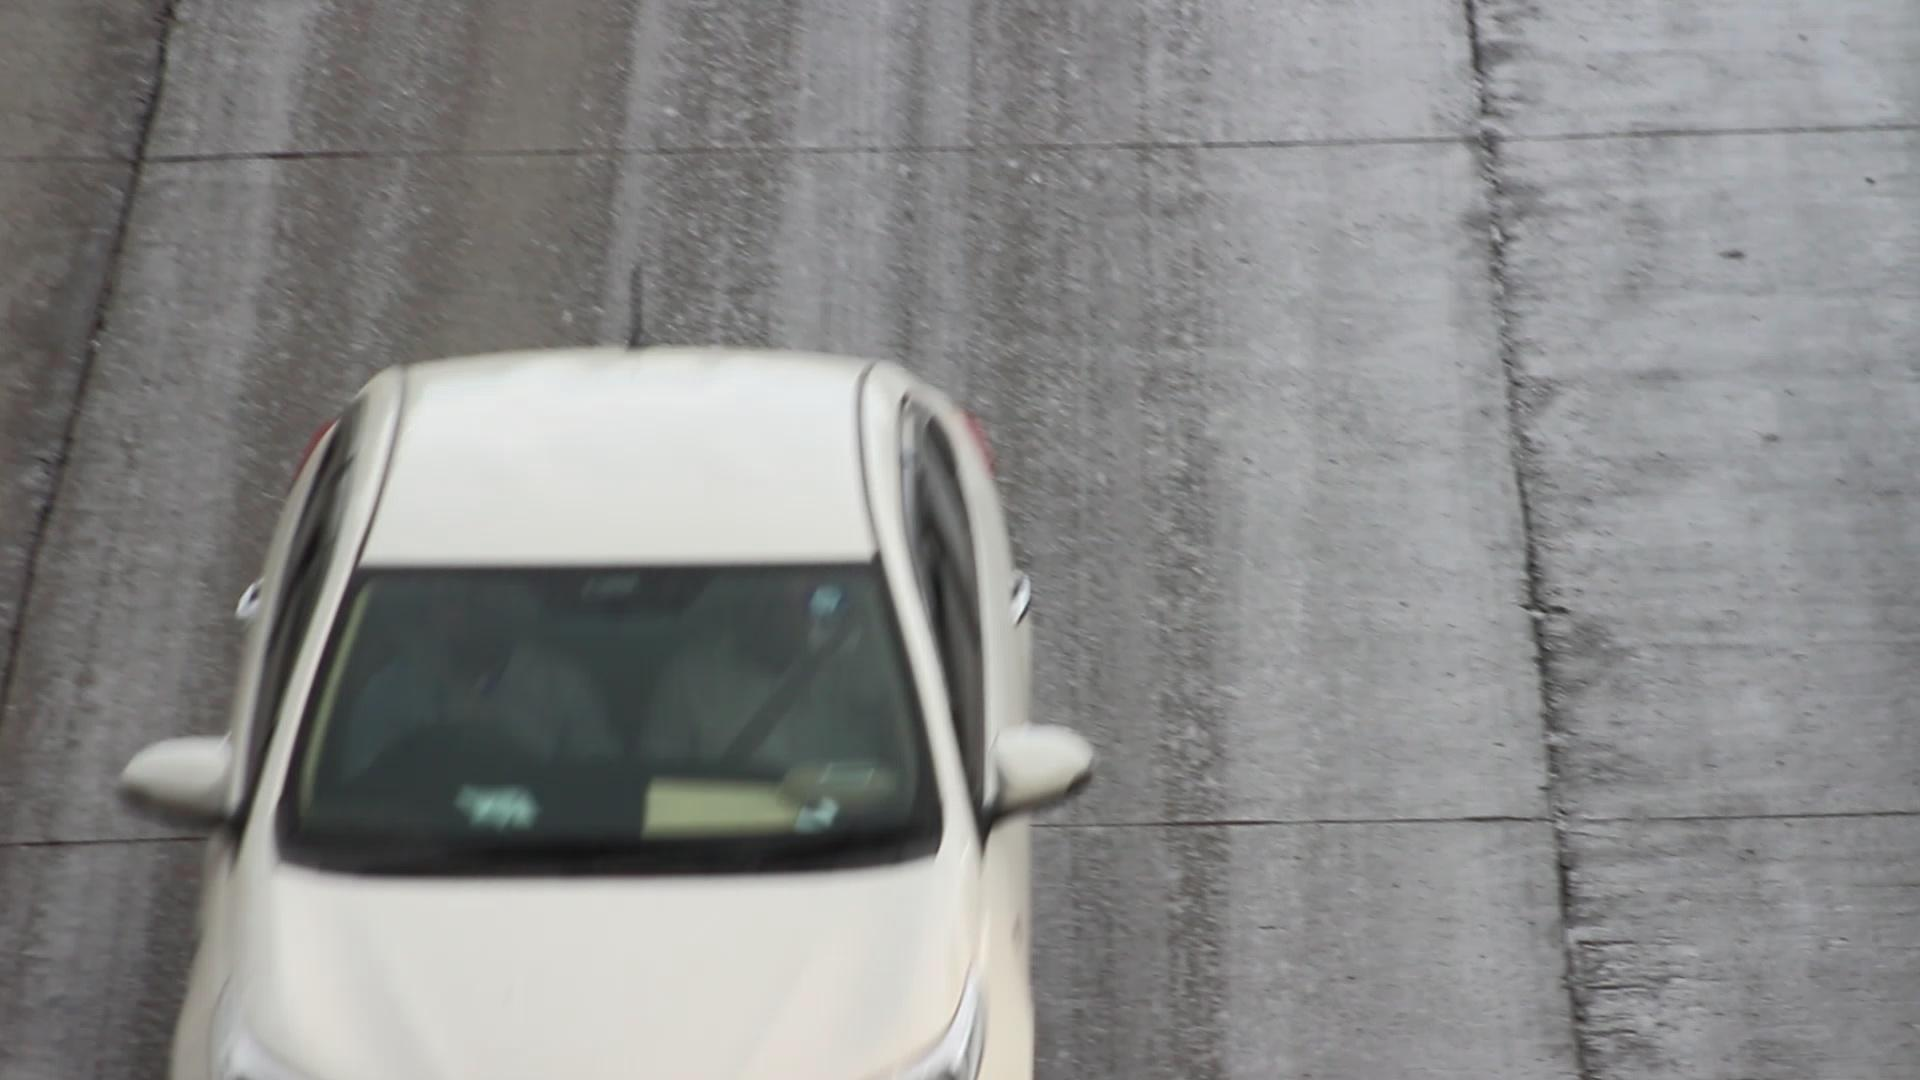windshield: (268, 533, 957, 890)
